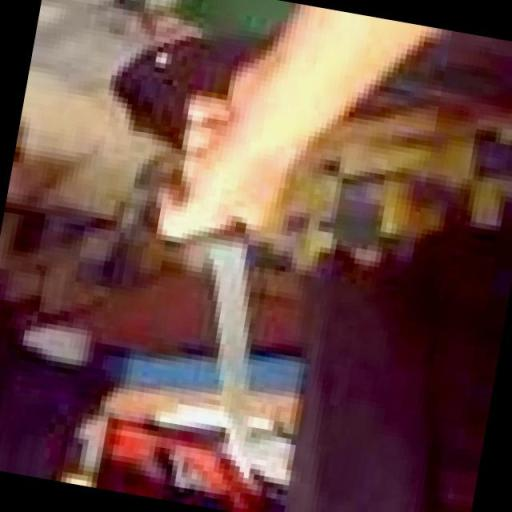knife: (66, 48, 323, 484)
